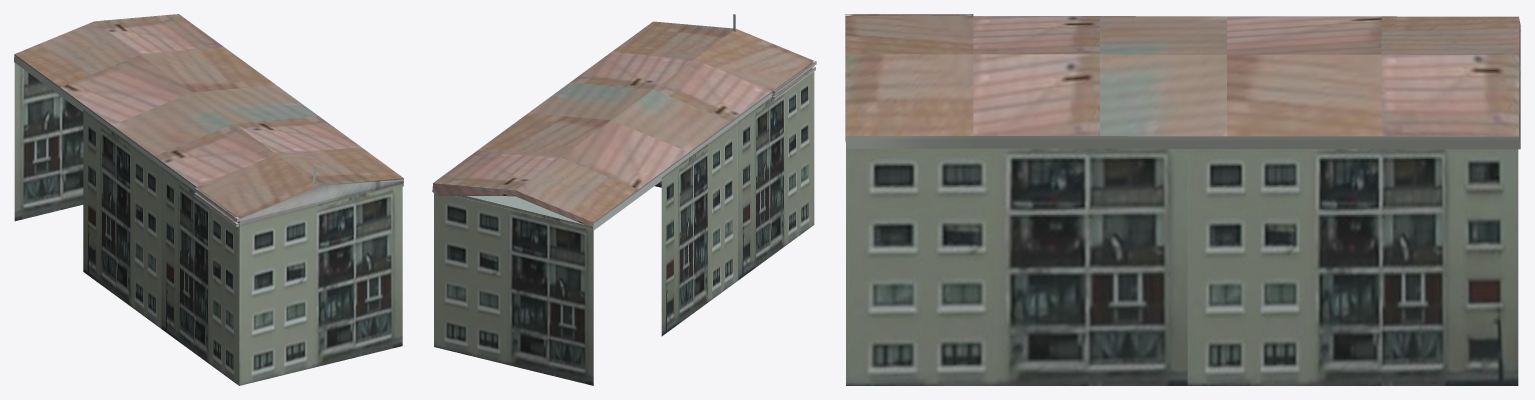
3 renders of one model, left to right at view 1: azimuth 30°, elevation 25°; view 2: azimuth 150°, elevation 25°; view 3: azimuth 270°, elevation 25°, orthographic. The views are drawn at different scales.
Parts seen in each view (by area): view 1: ortoedificio-frontal-frontal.006; view 2: ortoedificio-frontal-frontal.006; view 3: ortoedificio-frontal-frontal.006.
Boxes of the visible parts, <box> form: ortoedificio-frontal-frontal.006: <box>14,14,403,385</box>; ortoedificio-frontal-frontal.006: <box>432,14,816,385</box>; ortoedificio-frontal-frontal.006: <box>845,14,1520,385</box>.
Bounding box in the file's own units: 3.39 × 3.85 × 7.94.
Materials: 2 (2 with a texture image).
